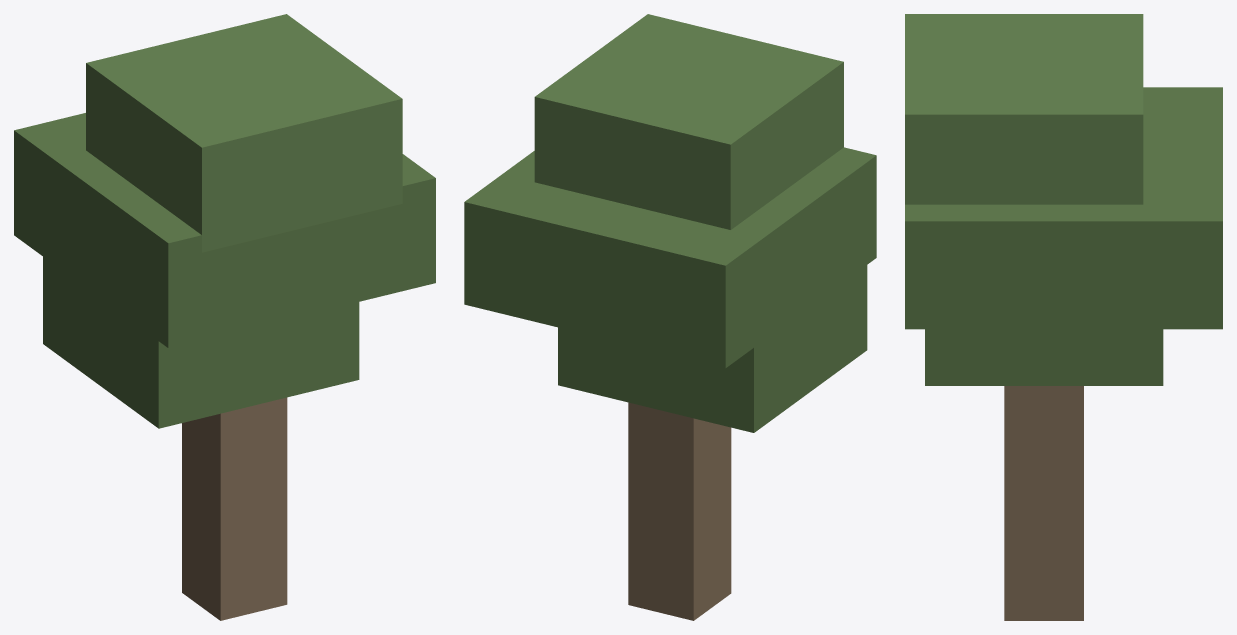
File: encina_03.glb
3 views of the same model, side by side, from view 1: azimuth 30°, elevation 25°; view 2: azimuth 150°, elevation 25°; view 3: azimuth 270°, elevation 25° (orthographic). The views are drawn at different scales.
Parts seen in each view (by area): view 1: encina_03; view 2: encina_03; view 3: encina_03.
Boxes of the visible parts, x1,y1,x2,y2 form: encina_03: (14,14,435,620); encina_03: (464,14,876,620); encina_03: (905,14,1222,620).
Size of the model in its own units: 1.6 by 3 by 1.6.
